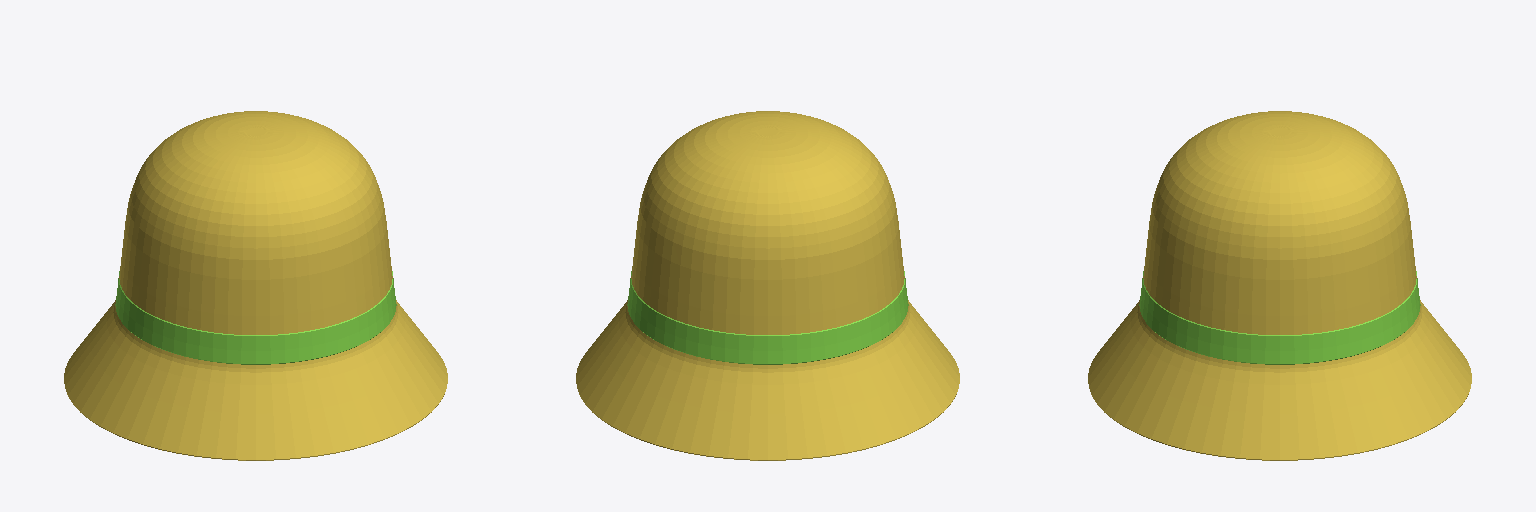
The picture shows the model from 3 angles: view 1: azimuth 30°, elevation 25°; view 2: azimuth 150°, elevation 25°; view 3: azimuth 270°, elevation 25°; orthographic projection.
Visible parts, largest first — view 1: huayihat_A0010, huayihat_A0010_1; view 2: huayihat_A0010, huayihat_A0010_1; view 3: huayihat_A0010, huayihat_A0010_1.
Part boxes in pixels (left/top/right/bottom): huayihat_A0010: left=64, top=111, right=447, bottom=460; huayihat_A0010_1: left=115, top=271, right=396, bottom=364; huayihat_A0010: left=576, top=111, right=959, bottom=460; huayihat_A0010_1: left=627, top=271, right=908, bottom=364; huayihat_A0010: left=1088, top=111, right=1471, bottom=460; huayihat_A0010_1: left=1139, top=271, right=1420, bottom=364.
Bounding box in the file's own units: 23.77 × 16.93 × 23.77.